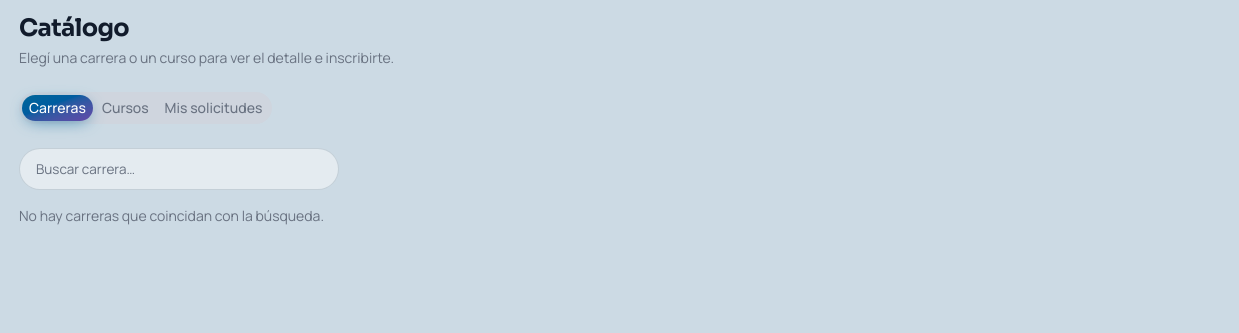
Catalogo › cambia a la tab Mis solicitudes y combina carrera + curso en una sola bandeja
Click the tab "Mis solicitudes" at (214, 108), box [158,96,269,120]
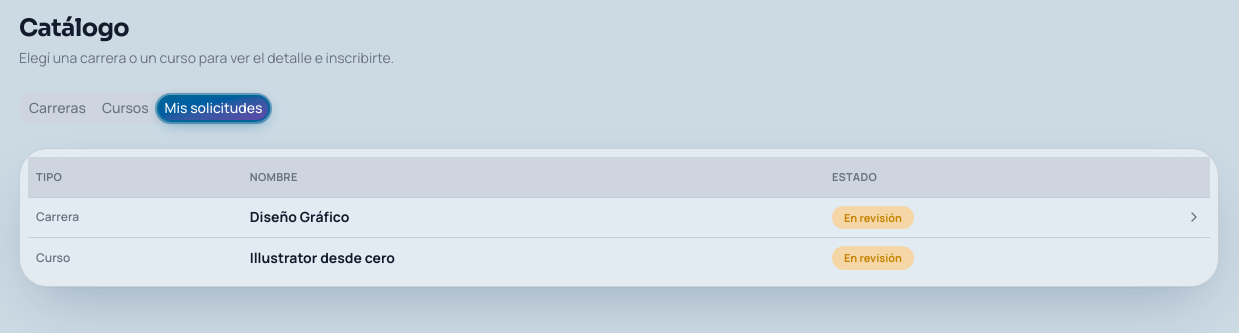
Check: the link "Diseño Gráfico" is shown, box [250,207,349,226]
Check: the text "Illustrator desde cero" is shown, box [242,238,824,278]
Check: the text "En revisión" is shown 2 times, box [832,206,914,229]; [832,246,914,270]
